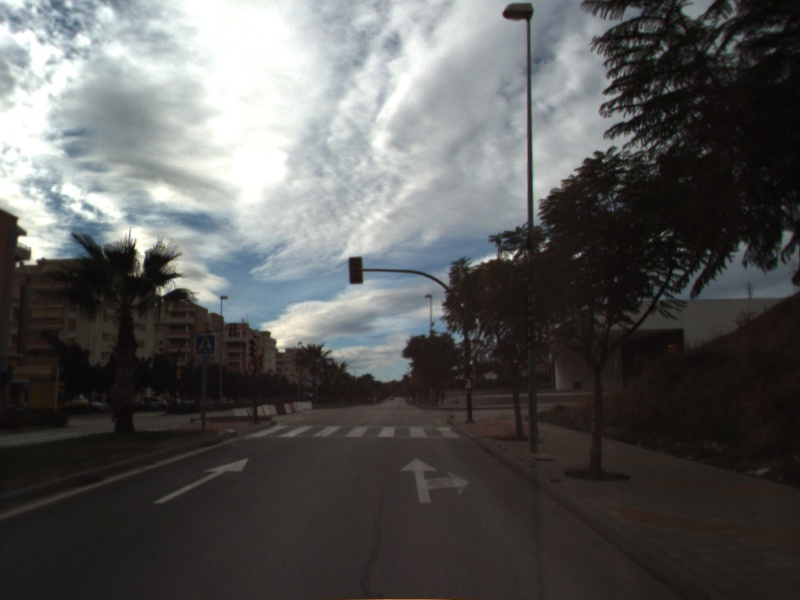STRAIGHT: (152, 457, 250, 505)
STRAIGHT_RIGHT: (398, 455, 472, 505)
